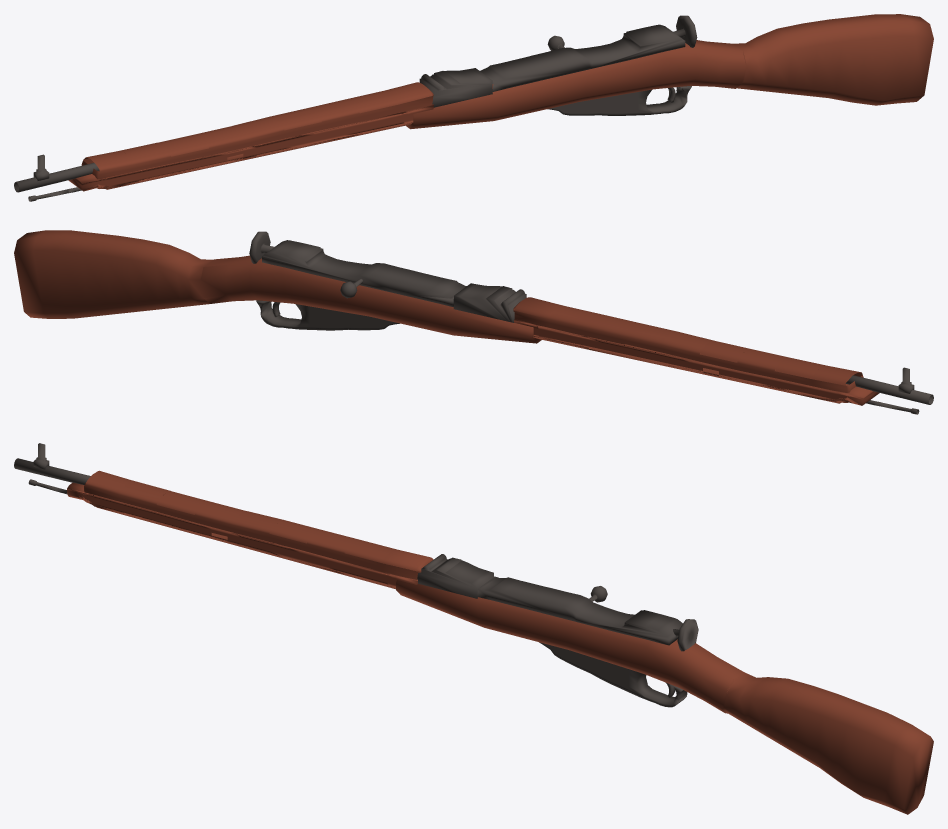
File: MosinNagant.fbx
3 views of the same model, one above another, from view 1: azimuth 30°, elevation 25°; view 2: azimuth 150°, elevation 25°; view 3: azimuth 330°, elevation 25° (orthographic).
Visible parts, largest first — view 1: Butt; view 2: Butt; view 3: Butt.
Boxes of the visible parts, x1=… form: Butt: x1=14, y1=14, x2=933, y2=201; Butt: x1=14, y1=230, x2=933, y2=414; Butt: x1=14, y1=443, x2=933, y2=814.
Bounding box in the file's own units: 482 × 79.29 × 35.45.
